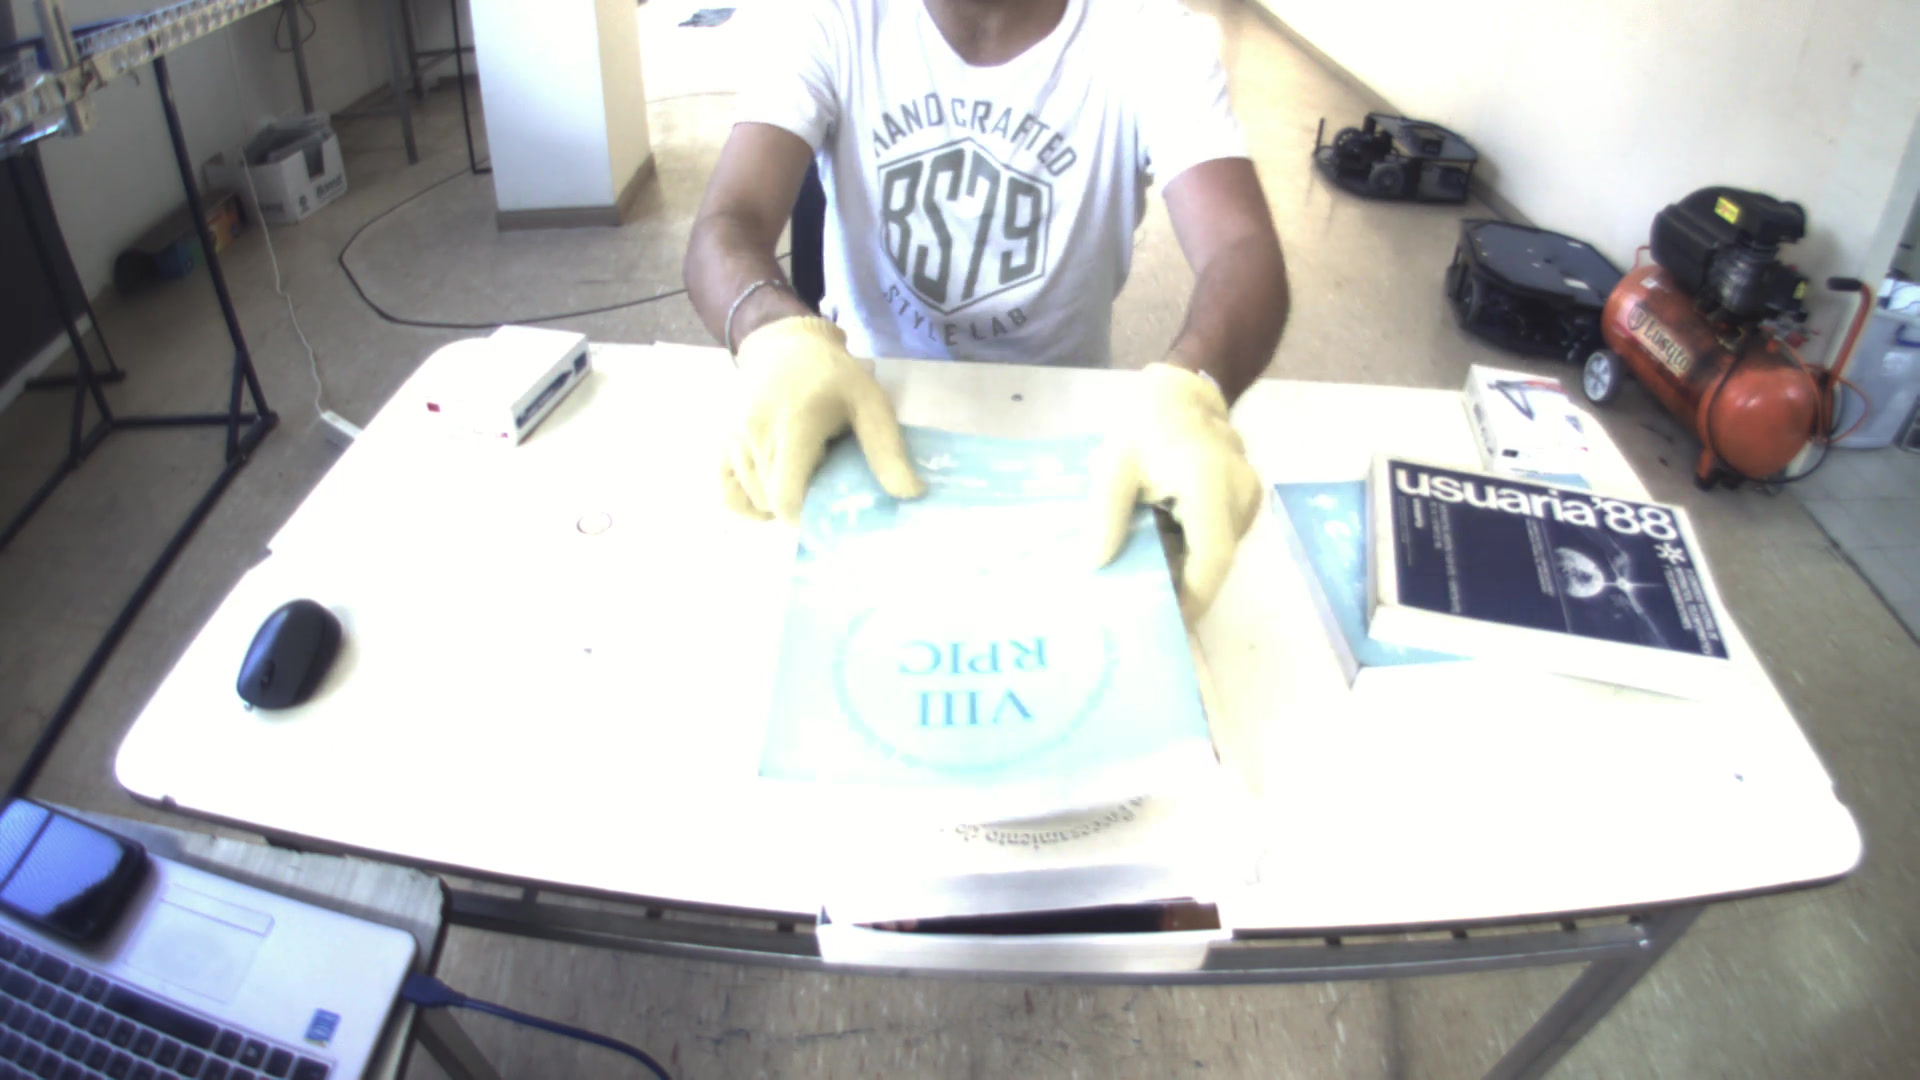hand: (709, 301, 936, 522), (1093, 353, 1278, 588)
